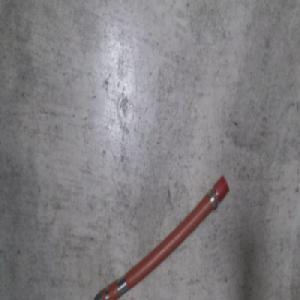Hose: (92, 170, 229, 300)
